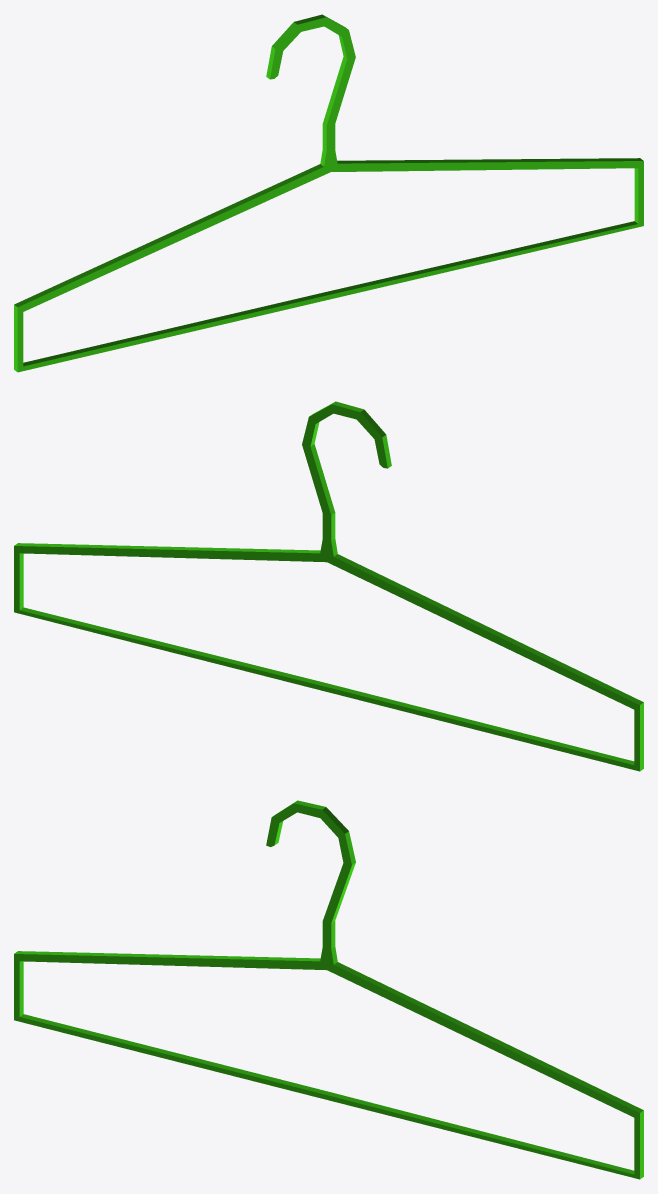
The model's file is Clothes Hanger 1.fbx.
3 renders of one model, top to bottom at view 1: azimuth 30°, elevation 25°; view 2: azimuth 150°, elevation 25°; view 3: azimuth 330°, elevation 25°, orthographic. The views are drawn at different scales.
Visible parts, largest first — view 1: Clothes Hanger 1; view 2: Clothes Hanger 1; view 3: Clothes Hanger 1.
Part boxes in pixels (bbox=[...]): Clothes Hanger 1: bbox=[14, 14, 643, 372]; Clothes Hanger 1: bbox=[14, 401, 643, 771]; Clothes Hanger 1: bbox=[14, 800, 643, 1179].
Size of the model in its own units: 0.0196 by 0.2961 by 0.6785.
